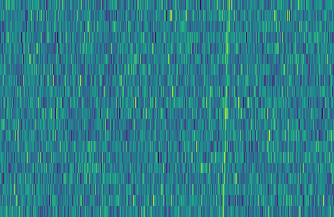signal: (219, 0, 234, 217)
